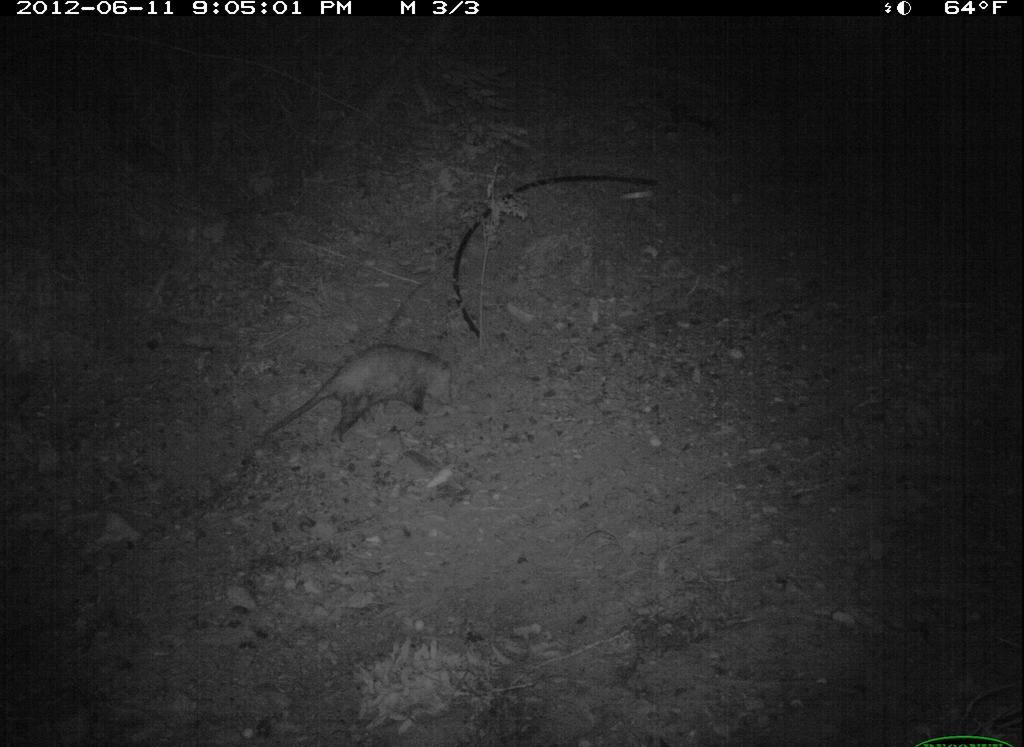opossum: (273, 340, 462, 444)
